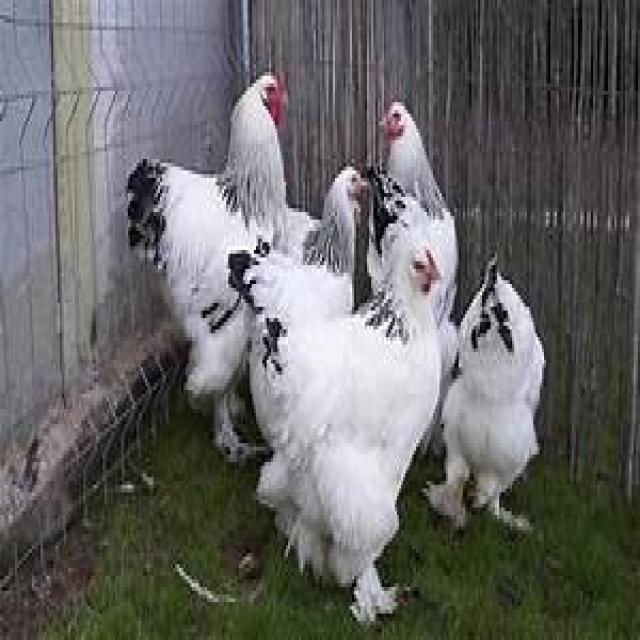animal: (250, 239, 434, 623), (124, 68, 290, 466), (420, 250, 546, 538)
